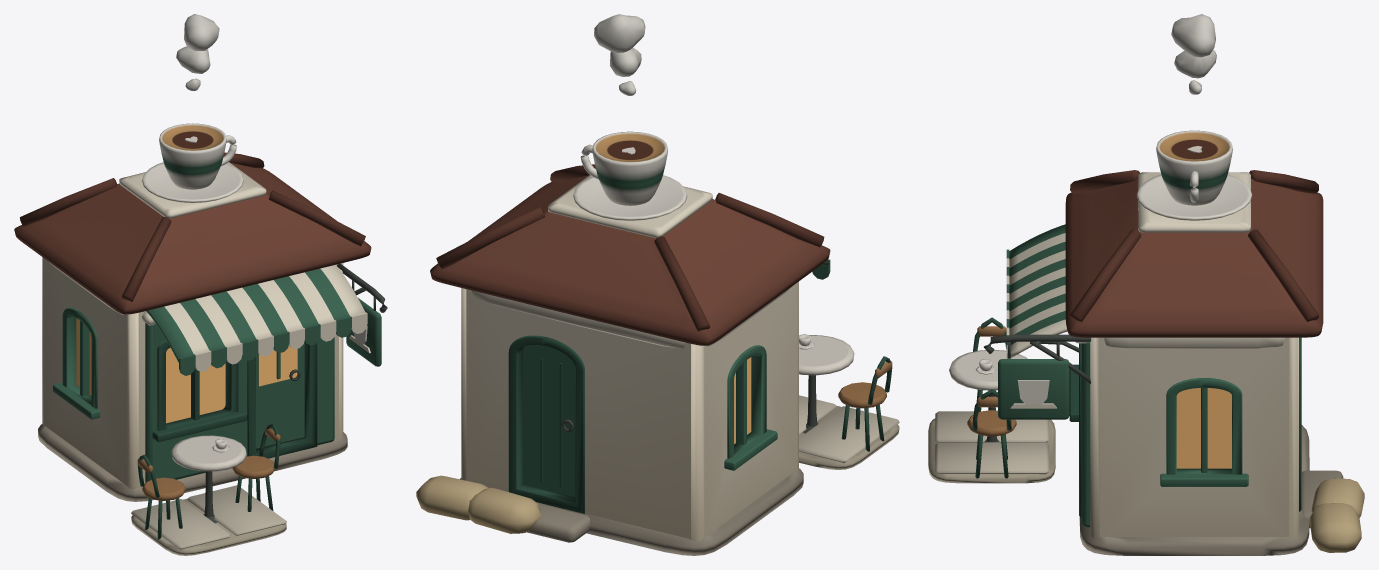
File: BLD_Cafe_A_T1.fbx
The picture shows the model from 3 angles, left to right: view 1: azimuth 30°, elevation 25°; view 2: azimuth 150°, elevation 25°; view 3: azimuth 270°, elevation 25°; orthographic projection. The views are drawn at different scales.
Parts seen in each view (by area): view 1: BLD_Cafe_A_T1_Body_LOD0, BLD_Cafe_A_T1_Sign_LOD0, BLD_Cafe_A_T1_Puff3_LOD0, BLD_Cafe_A_T1_Puff2_LOD0; view 2: BLD_Cafe_A_T1_Body_LOD0, BLD_Cafe_A_T1_Puff3_LOD0, BLD_Cafe_A_T1_Puff2_LOD0; view 3: BLD_Cafe_A_T1_Body_LOD0, BLD_Cafe_A_T1_Sign_LOD0, BLD_Cafe_A_T1_Puff3_LOD0, BLD_Cafe_A_T1_Puff2_LOD0.
Part boxes in pixels (x1,y1,x2,y2): BLD_Cafe_A_T1_Body_LOD0: (14, 123, 387, 555); BLD_Cafe_A_T1_Sign_LOD0: (346, 280, 381, 366); BLD_Cafe_A_T1_Puff3_LOD0: (184, 14, 219, 51); BLD_Cafe_A_T1_Puff2_LOD0: (176, 46, 210, 73); BLD_Cafe_A_T1_Body_LOD0: (416, 131, 899, 555); BLD_Cafe_A_T1_Puff3_LOD0: (594, 14, 645, 52); BLD_Cafe_A_T1_Puff2_LOD0: (610, 48, 641, 76); BLD_Cafe_A_T1_Body_LOD0: (928, 130, 1364, 555); BLD_Cafe_A_T1_Sign_LOD0: (998, 341, 1069, 419); BLD_Cafe_A_T1_Puff3_LOD0: (1171, 14, 1215, 57); BLD_Cafe_A_T1_Puff2_LOD0: (1174, 49, 1216, 78).
Size of what is drawn, in the model's own units: 2.84 by 4.31 by 3.55.
